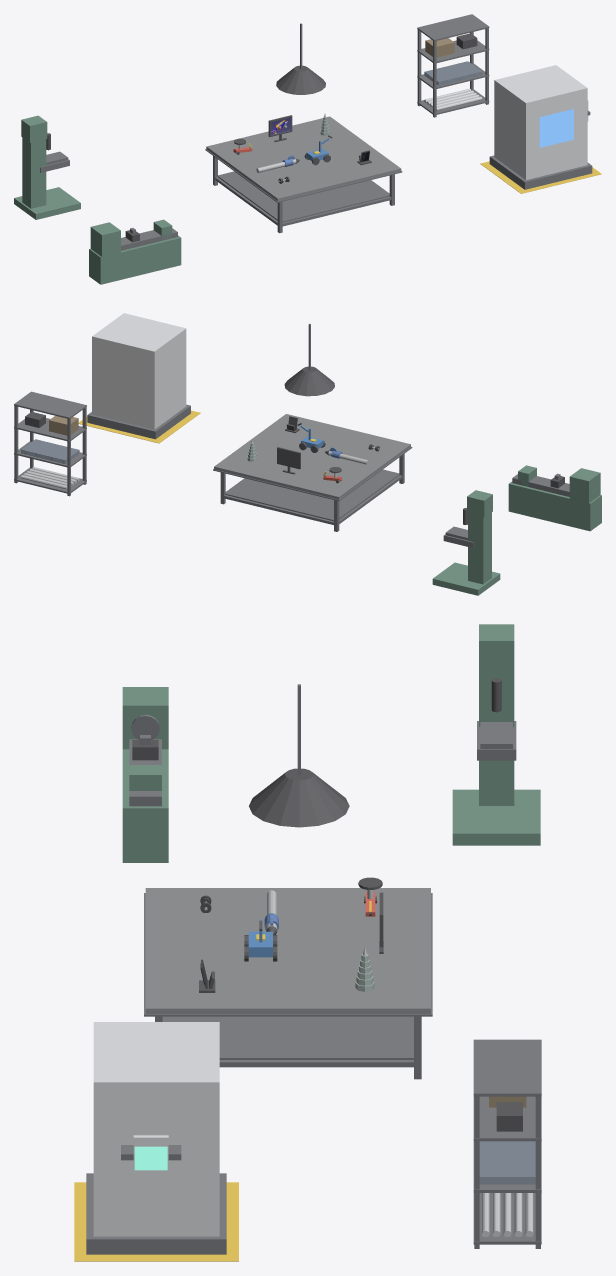
File: atelier_scene.glb
The picture shows the model from 3 angles, top to bottom: view 1: azimuth 30°, elevation 25°; view 2: azimuth 150°, elevation 25°; view 3: azimuth 270°, elevation 25°; orthographic projection. The views are drawn at different scales.
Visible parts, largest first — view 1: bench_top, cnc_body, bench_shelf, lathe_base, mill_column, cnc_window, mill_base, cnc_skirt, rack_shelf.003, lamp_shade, lathe_headstock, rack_sheet_3 (+8 smaller); view 2: cnc_body, bench_top, bench_shelf, lathe_base, mill_column, mill_base, cnc_skirt, rack_shelf.003, lamp_shade, lathe_headstock, rack_sheet_3, floor_marking (+8 smaller); view 3: bench_top, cnc_body, bench_shelf, mill_base, lamp_shade, rack_shelf.003, cnc_skirt, lathe_base, floor_marking, mill_column, rack_sheet_3, lathe_headstock (+12 smaller).
Boxes of the visible parts, x1,y1,x2,y2 form: bench_top: (206, 116, 401, 201); cnc_body: (494, 65, 587, 179); bench_shelf: (218, 171, 389, 222); lathe_base: (89, 235, 181, 284); mill_column: (22, 129, 46, 208); cnc_window: (539, 109, 573, 147); mill_base: (14, 187, 80, 219); cnc_skirt: (489, 155, 592, 189); rack_shelf.003: (417, 14, 489, 41); lamp_shade: (276, 65, 325, 94); lathe_headstock: (90, 222, 120, 256); rack_sheet_3: (424, 61, 481, 82); cnc_body: (92, 313, 186, 429); bench_top: (214, 414, 410, 499); bench_shelf: (225, 470, 399, 521); lathe_base: (508, 481, 601, 531); mill_column: (468, 504, 491, 584); mill_base: (432, 562, 500, 595); cnc_skirt: (87, 404, 190, 439); rack_shelf.003: (14, 391, 86, 419); lamp_shade: (284, 366, 334, 396); lathe_headstock: (569, 468, 600, 503); rack_sheet_3: (21, 439, 79, 460); floor_marking: (78, 410, 200, 443); bench_top: (145, 888, 430, 1013); cnc_body: (93, 1022, 219, 1236); bench_shelf: (162, 1016, 413, 1059); mill_base: (452, 789, 540, 845); lamp_shade: (249, 768, 349, 827); rack_shelf.003: (473, 1039, 541, 1096); cnc_skirt: (86, 1173, 226, 1254); lathe_base: (122, 749, 168, 862); floor_marking: (74, 1182, 238, 1261); mill_column: (479, 674, 514, 805); rack_sheet_3: (479, 1141, 535, 1178); lathe_headstock: (122, 687, 168, 749).
Size of what is drawn, in the model's own units: 10.33 by 3.4 by 4.26.
Materials: 21 (2 with a texture image).
